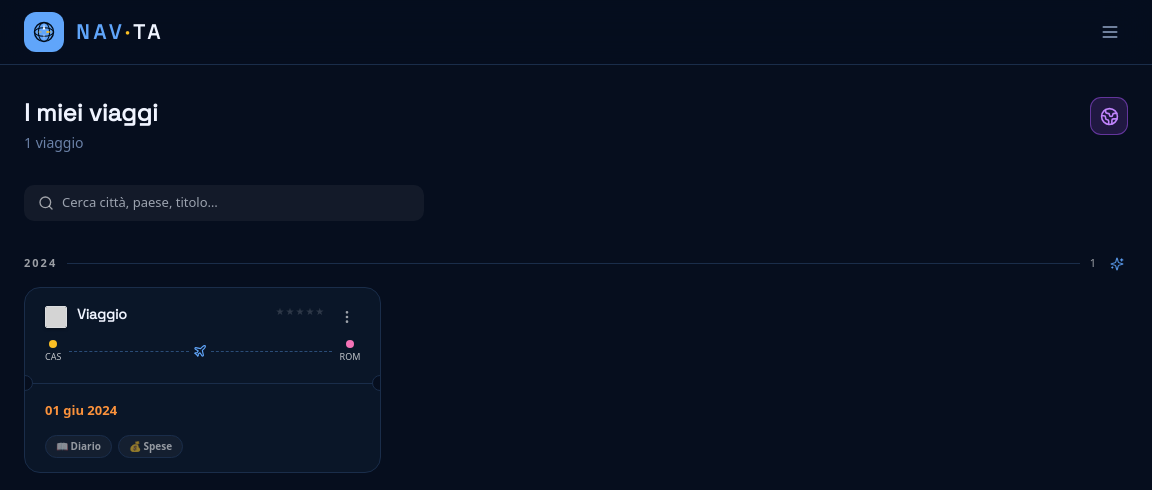
Test: MieiViaggi — ricerca › nessun risultato → mostra 'Nessun risultato'
Type "xyzabc" into the field with placeholder "Cerca città, paese, titolo…" at (236, 203), box [62,193,410,212]
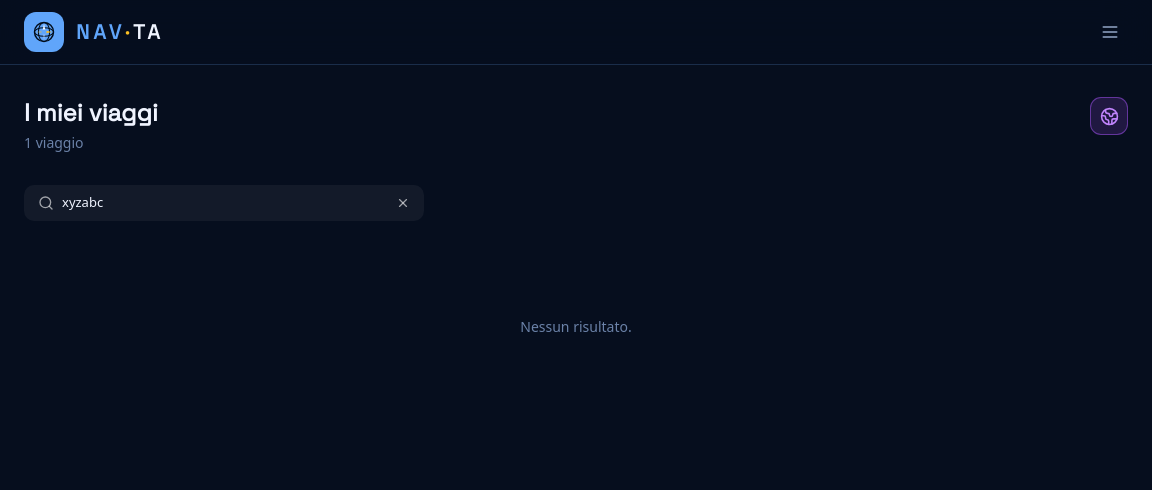
Now the text "Nessun risultato." is shown, box [520,316,632,336]
